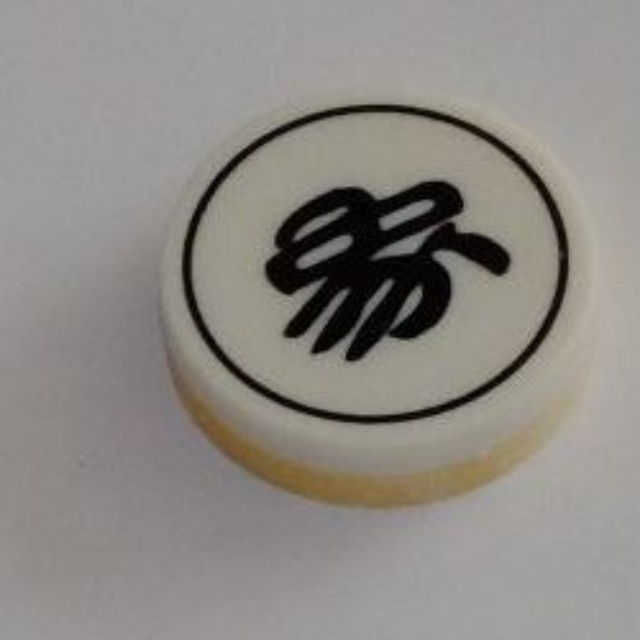black_bo: (148, 75, 601, 499)
